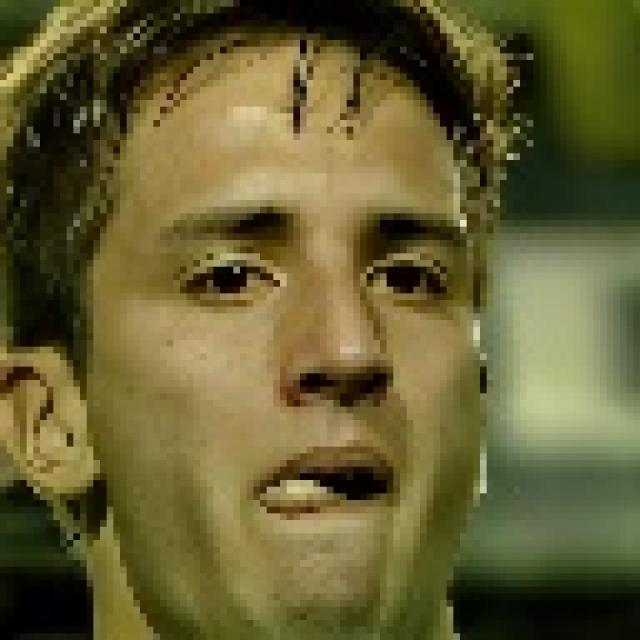sad: (0, 13, 507, 640)
